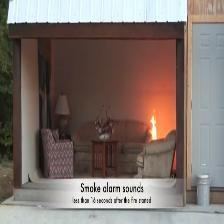fire: (141, 106, 165, 144)
